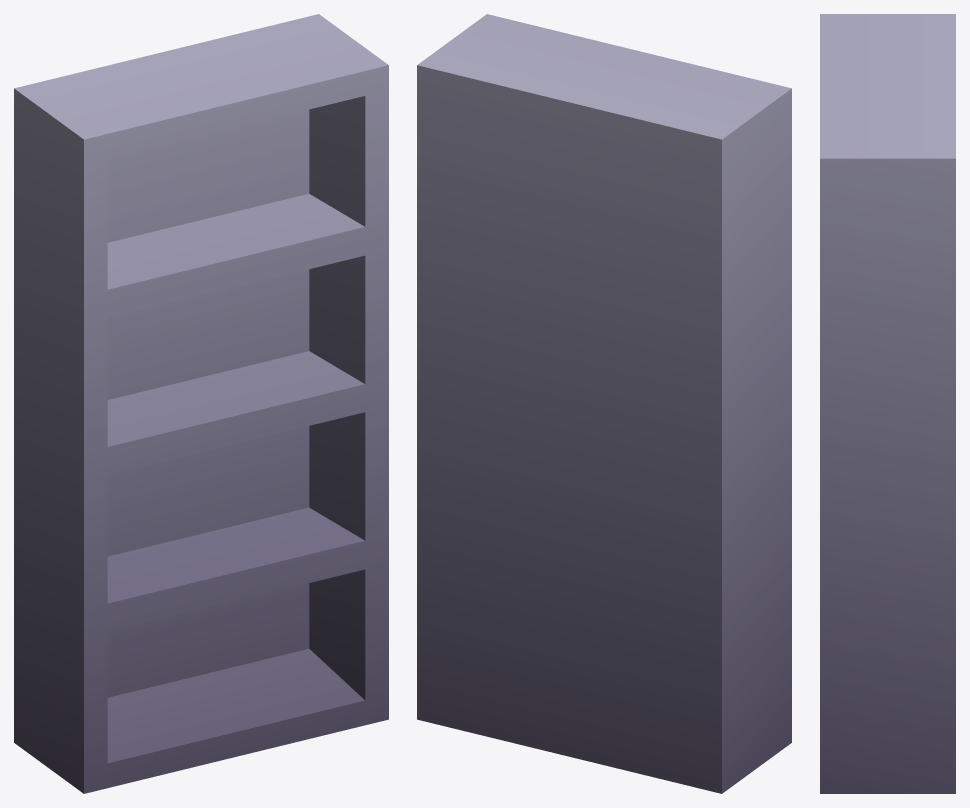
The model's file is Bookshelf_01.fbx.
3 views of the same model, side by side, from view 1: azimuth 30°, elevation 25°; view 2: azimuth 150°, elevation 25°; view 3: azimuth 270°, elevation 25° (orthographic). The views are drawn at different scales.
Visible parts, largest first — view 1: Bookshelf_01; view 2: Bookshelf_01; view 3: Bookshelf_01.
Boxes of the visible parts, box(x1,y1,x2,y2) form: Bookshelf_01: box(14, 14, 388, 793); Bookshelf_01: box(417, 14, 791, 793); Bookshelf_01: box(820, 14, 955, 793).
Size of the model in its own units: 99.71 by 204 by 39.64.
